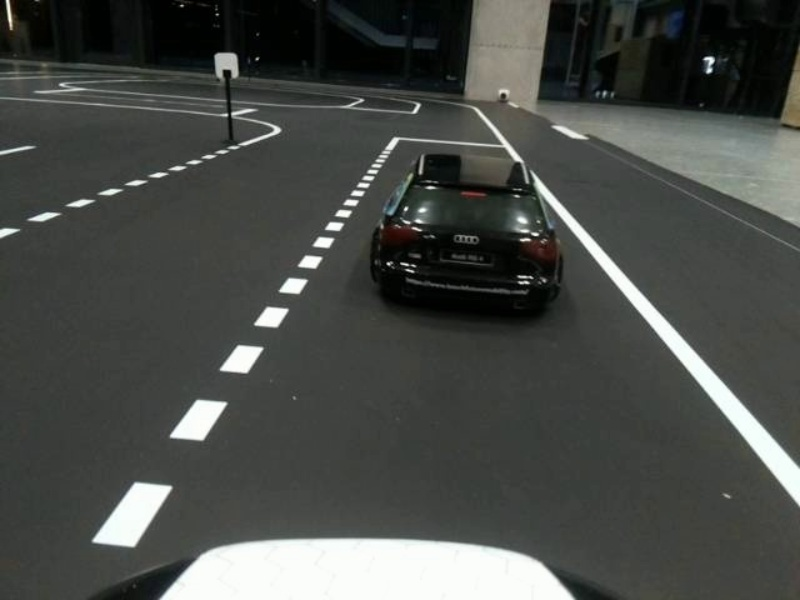car: (371, 147, 572, 322)
